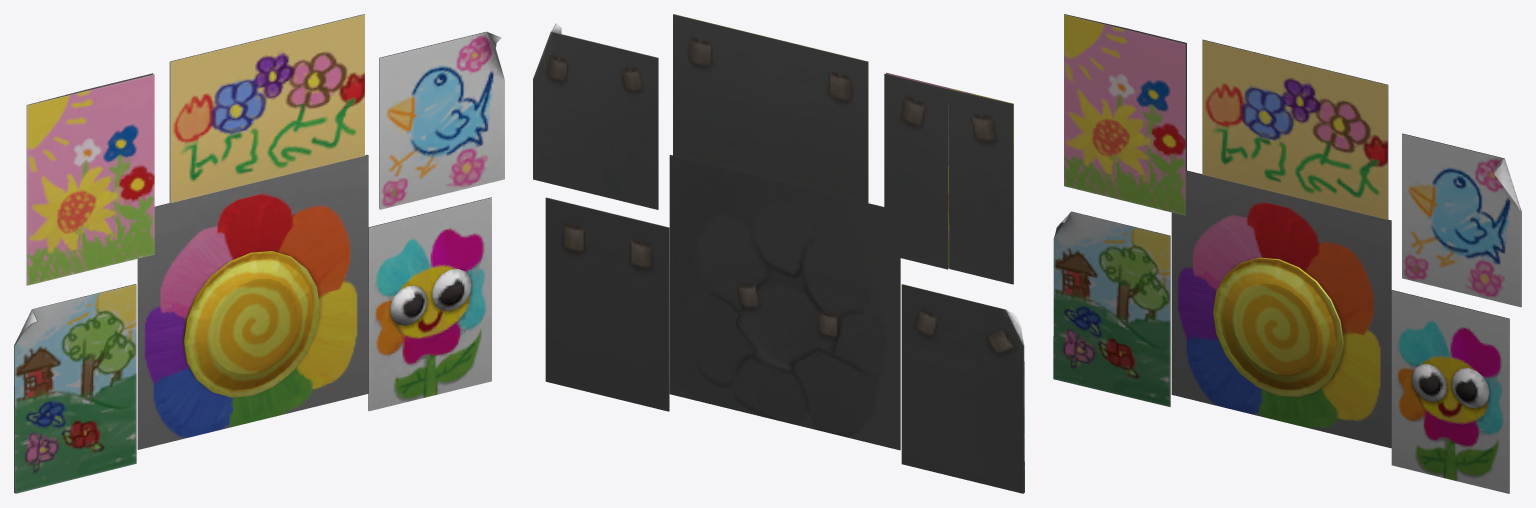
File: estivales.fbx
The picture shows the model from 3 angles, left to right: view 1: azimuth 30°, elevation 25°; view 2: azimuth 150°, elevation 25°; view 3: azimuth 330°, elevation 25°; orthographic projection. The views are drawn at different scales.
Parts seen in each view (by area): view 1: s4studio_mesh_0; view 2: s4studio_mesh_0; view 3: s4studio_mesh_0.
Part boxes in pixels (<box>): s4studio_mesh_0: <box>14,14,504,493</box>; s4studio_mesh_0: <box>533,14,1024,493</box>; s4studio_mesh_0: <box>1053,14,1521,493</box>.
Bounding box in the file's own units: 109 × 84.87 × 4.09.
Materials: 1 (1 with a texture image).
